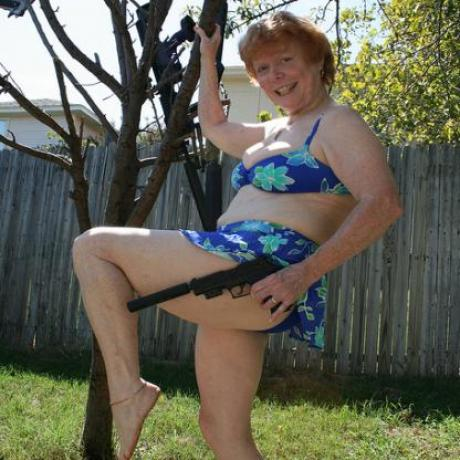1: (69, 8, 401, 460)
weapon: (124, 245, 300, 328)
